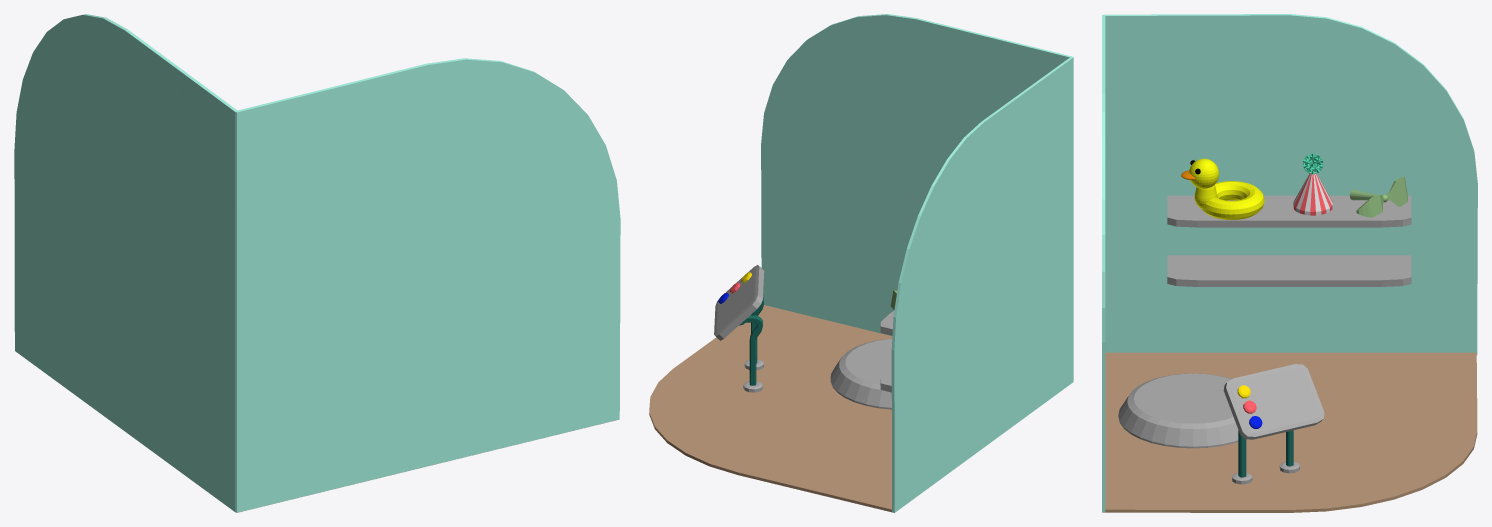
File: dressUpStation.fbx
3 renders of one model, left to right at view 1: azimuth 30°, elevation 25°; view 2: azimuth 150°, elevation 25°; view 3: azimuth 270°, elevation 25°, orthographic. The views are drawn at different scales.
Visible parts, largest first — view 1: walls; view 2: walls, base, displayBase, controlPanel; view 3: walls, base, shelves, displayBase, controlPanel, duckFloat, partyHat, leafHat.
Part boxes in pixels (x1,y1,x2,y2): walls: [14, 14, 620, 512]; walls: [761, 14, 1073, 512]; base: [649, 305, 892, 512]; displayBase: [830, 338, 892, 409]; controlPanel: [714, 265, 764, 392]; walls: [1102, 14, 1477, 512]; base: [1102, 352, 1477, 512]; shelves: [1167, 195, 1411, 286]; displayBase: [1118, 373, 1238, 448]; controlPanel: [1223, 364, 1324, 484]; duckFloat: [1181, 158, 1264, 219]; partyHat: [1293, 153, 1332, 215]; leafHat: [1349, 176, 1407, 217].
Bounding box in the file's own units: 1159 × 1157 × 1159.
